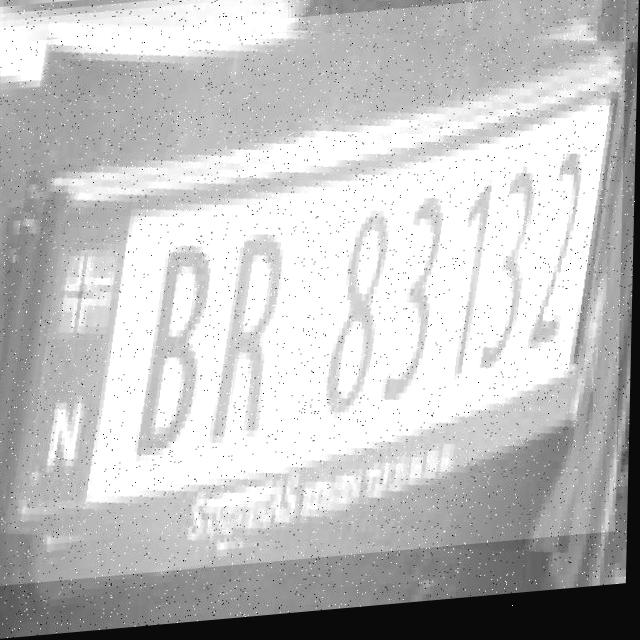LicensePlate: (0, 0, 627, 587)
